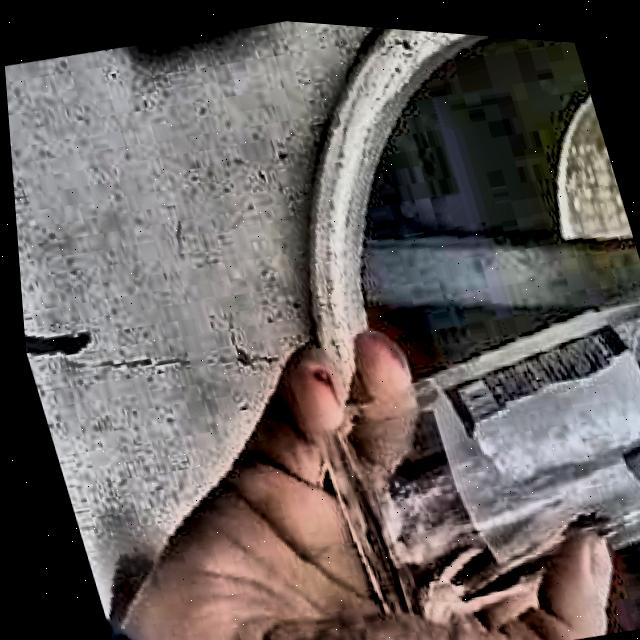glass: (317, 283, 640, 610)
